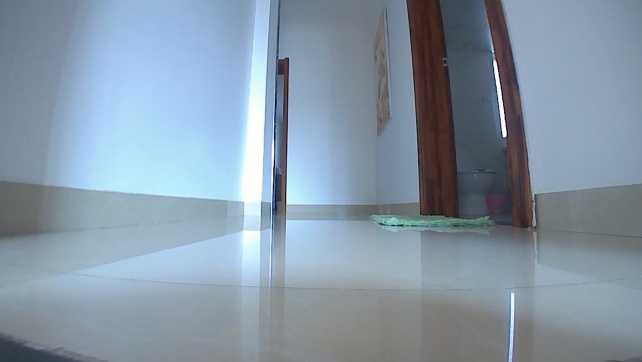blanket: (366, 208, 495, 229)
toilet: (455, 160, 494, 215)
